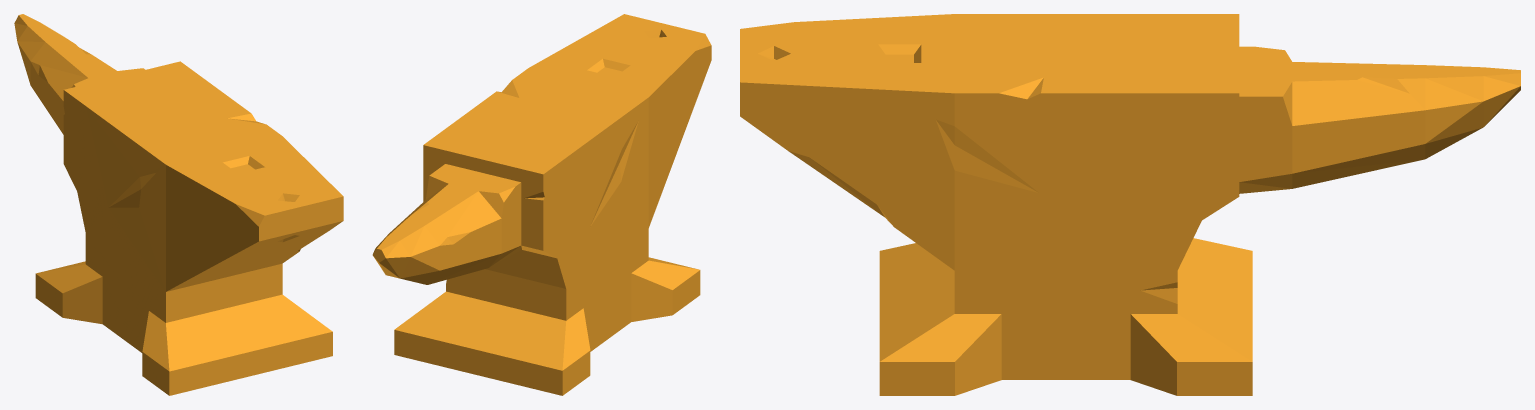
File: SM_Anvil_Fantasy.fbx
3 views of the same model, side by side, from view 1: azimuth 30°, elevation 25°; view 2: azimuth 150°, elevation 25°; view 3: azimuth 270°, elevation 25° (orthographic). The views are drawn at different scales.
Parts seen in each view (by area): view 1: anvil-medieval; view 2: anvil-medieval; view 3: anvil-medieval.
Part boxes in pixels (x1=…): anvil-medieval: x1=14, y1=14, x2=343, y2=395; anvil-medieval: x1=372, y1=14, x2=711, y2=395; anvil-medieval: x1=740, y1=14, x2=1520, y2=395.
Bounding box in the file's own units: 0.28 × 0.3372 × 0.832.
